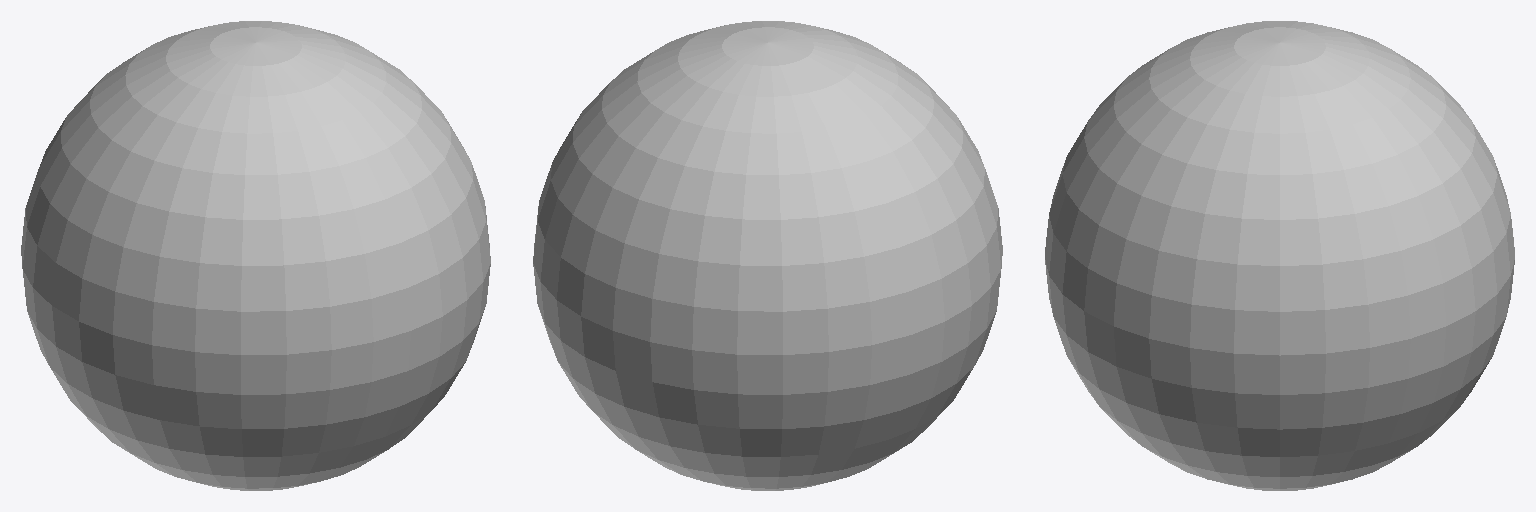
The model's file is eye.obj.
3 views of the same model, side by side, from view 1: azimuth 30°, elevation 25°; view 2: azimuth 150°, elevation 25°; view 3: azimuth 270°, elevation 25° (orthographic).
Parts seen in each view (by area): view 1: Sphere.002_Sphere.005; view 2: Sphere.002_Sphere.005; view 3: Sphere.002_Sphere.005.
Part boxes in pixels (bbox=[...]): Sphere.002_Sphere.005: bbox=[21, 21, 490, 490]; Sphere.002_Sphere.005: bbox=[533, 21, 1002, 490]; Sphere.002_Sphere.005: bbox=[1045, 21, 1514, 490].
Bounding box in the file's own units: 0.8683 × 0.8683 × 0.8683.